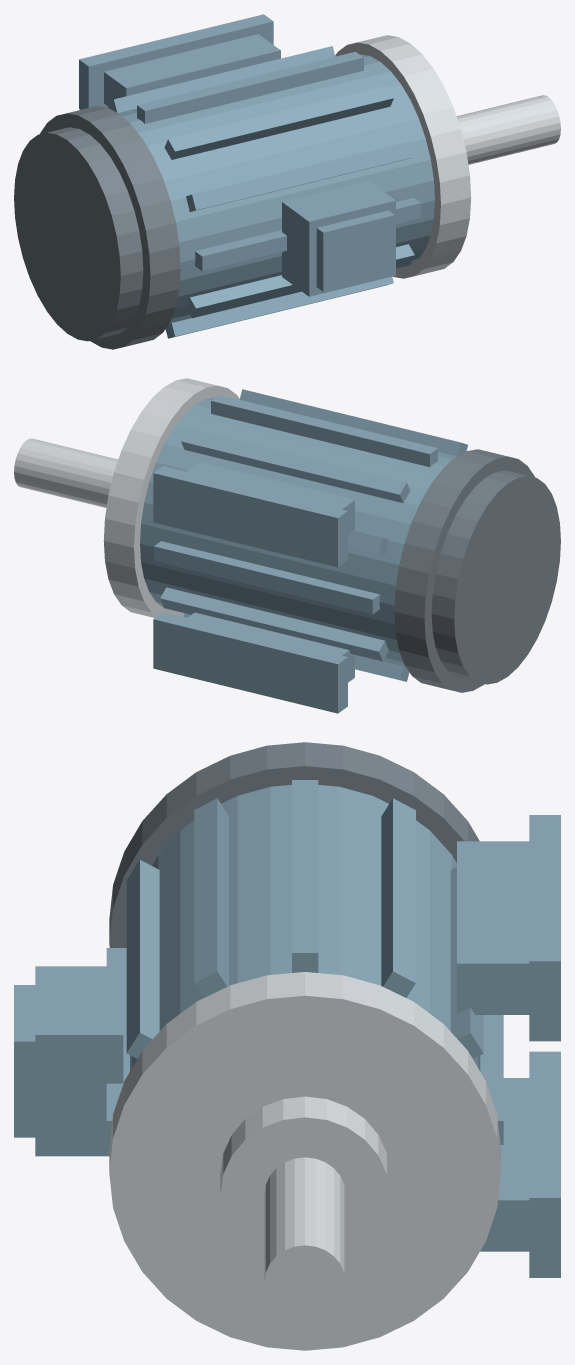
File: electric_motor.glb
3 views of the same model, one above another, from view 1: azimuth 30°, elevation 25°; view 2: azimuth 150°, elevation 25°; view 3: azimuth 270°, elevation 25° (orthographic). The views are drawn at different scales.
Parts seen in each view (by area): view 1: StatorHousing, RearFanCover, FrontShieldAndShaft; view 2: StatorHousing, RearFanCover, FrontShieldAndShaft; view 3: FrontShieldAndShaft, StatorHousing, RearFanCover.
Part boxes in pixels (x1,y1,x2,y2): StatorHousing: [79, 14, 434, 338]; RearFanCover: [14, 106, 180, 349]; FrontShieldAndShaft: [335, 35, 560, 278]; StatorHousing: [140, 389, 467, 713]; RearFanCover: [394, 449, 560, 692]; FrontShieldAndShaft: [14, 378, 239, 617]; FrontShieldAndShaft: [109, 972, 500, 1350]; StatorHousing: [14, 780, 560, 1277]; RearFanCover: [109, 742, 479, 947].
Bounding box in the file's own units: 2.55 × 1.12 × 1.55.
